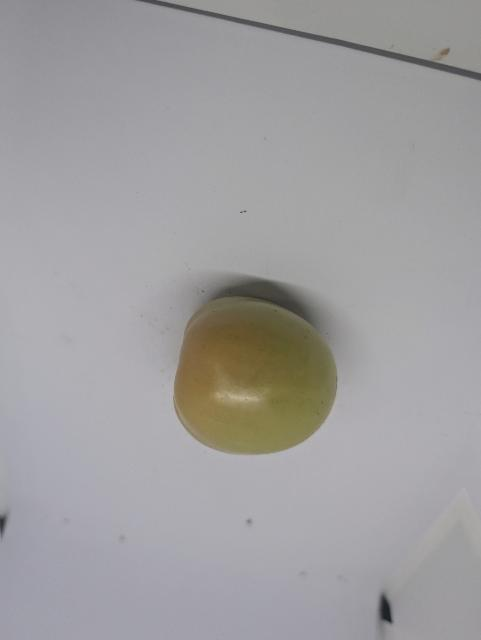breaker: (174, 297, 338, 454)
